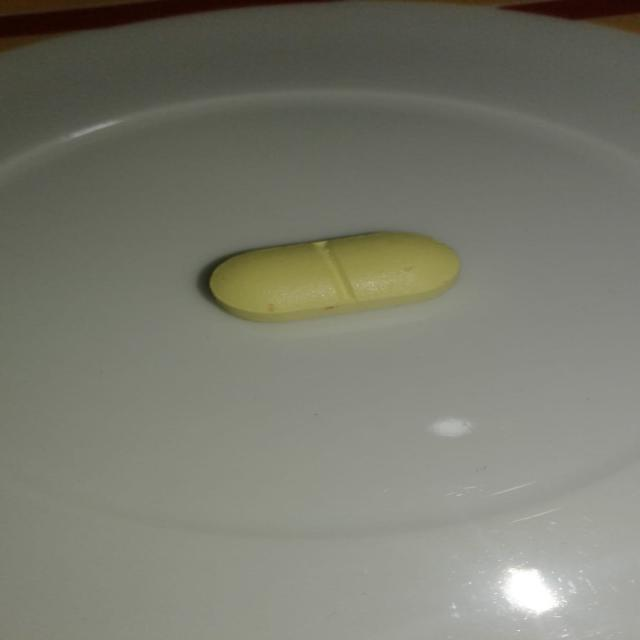pills: (176, 218, 488, 330)
